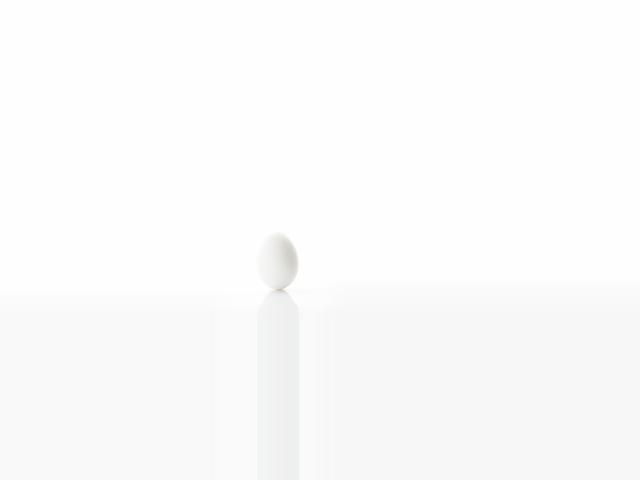egg: (257, 232, 298, 290)
